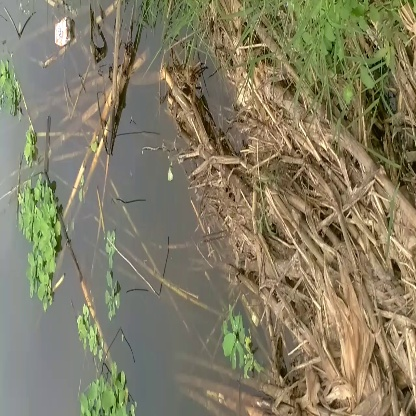milk-box: (45, 14, 78, 52)
